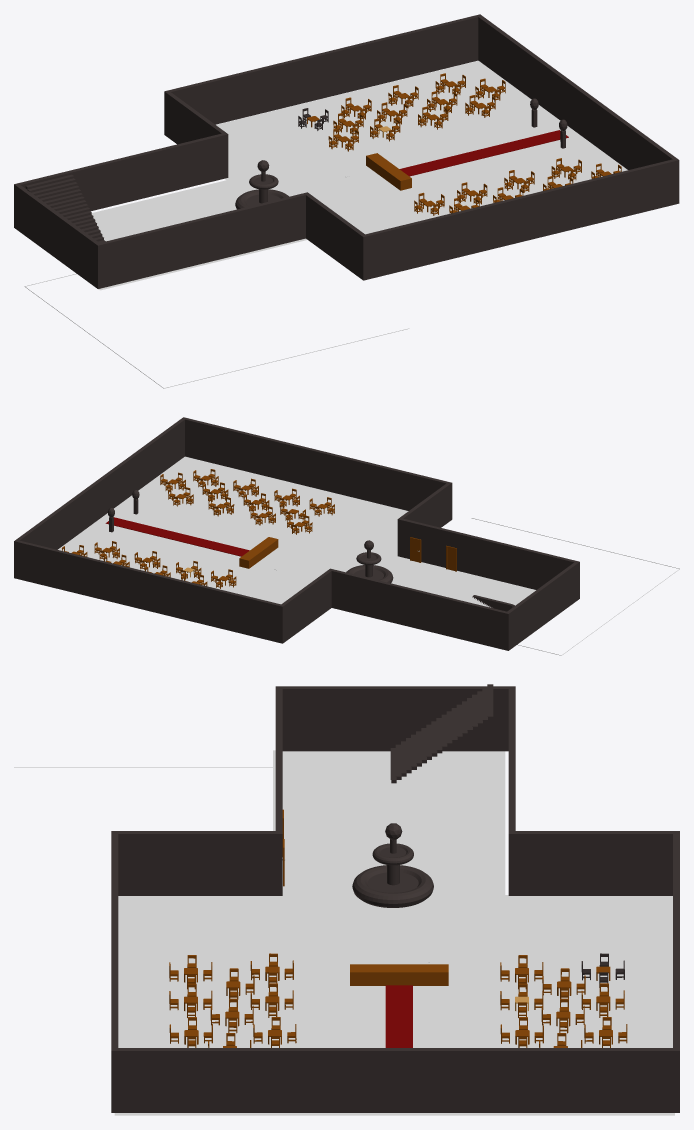
Rendered from Lobby.fbx.
The picture shows the model from 3 angles, top to bottom: view 1: azimuth 30°, elevation 25°; view 2: azimuth 150°, elevation 25°; view 3: azimuth 270°, elevation 25°; orthographic projection. The views are drawn at different scales.
Visible parts, largest first — view 1: Room, Plane, Plane.001, Stairs, Cube.027, Cylinder.010, Cube.003; view 2: Room, Plane, Plane.001, Cube.027, Cylinder.010, Cube.003, Baseboard; view 3: Room, Plane, Plane.001, Cylinder.010, Stairs, Cube.003, Cube.027.
Part boxes in pixels (x1,y1,x2,y2): Room: (14, 14, 679, 288); Plane: (216, 60, 679, 234); Plane.001: (91, 177, 307, 290); Stairs: (25, 174, 105, 242); Cube.027: (399, 130, 568, 176); Cylinder.010: (235, 160, 288, 209); Cube.003: (366, 153, 411, 190); Room: (14, 417, 579, 650); Plane: (58, 456, 408, 604); Plane.001: (374, 552, 535, 607); Cube.027: (105, 517, 249, 556); Cylinder.010: (346, 540, 393, 583); Cube.003: (239, 537, 278, 568); Baseboard: (471, 518, 679, 655); Room: (111, 686, 679, 1112); Plane: (114, 895, 674, 1115); Plane.001: (273, 750, 505, 906); Cylinder.010: (352, 823, 433, 907); Stairs: (390, 684, 493, 783); Cube.003: (350, 964, 448, 985); Cube.027: (385, 985, 412, 1047).
Bounding box in the file's own units: 13263 × 1712 × 9722.
